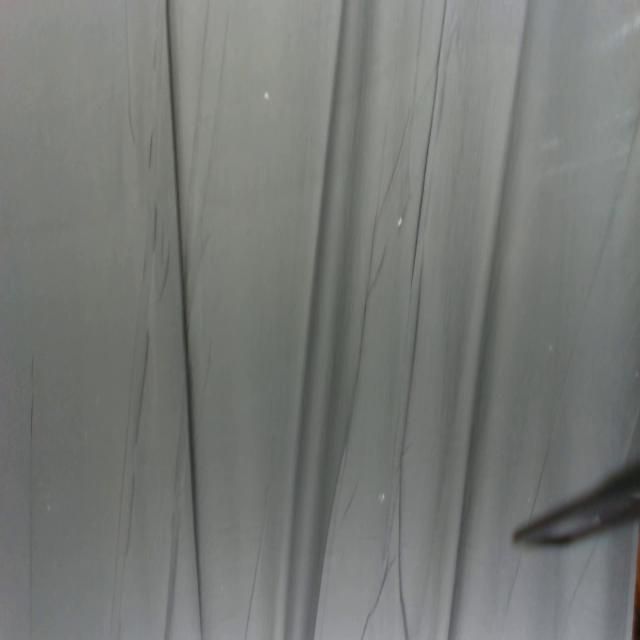crease: (108, 1, 170, 633), (397, 0, 451, 639), (167, 1, 210, 640), (28, 356, 38, 636)
hole: (377, 490, 386, 510), (547, 343, 557, 356), (263, 91, 271, 103), (397, 214, 403, 229), (634, 370, 640, 380)
